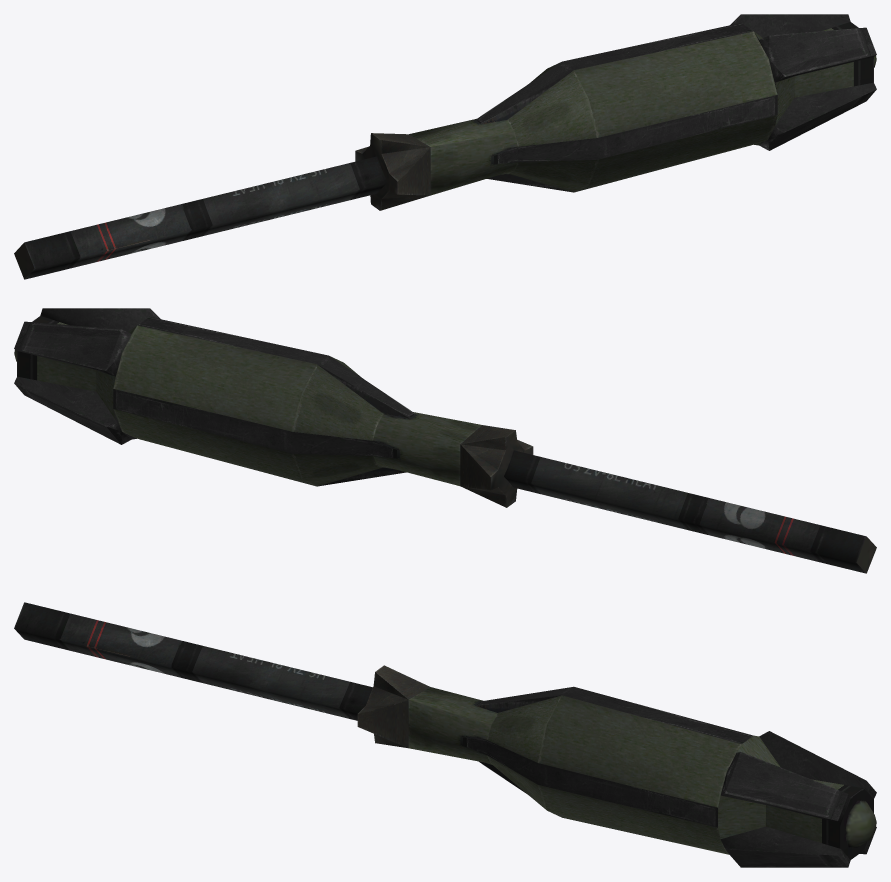
The model's file is t6_attach_mag_usrpg_world_LOD0.obj.
3 renders of one model, top to bottom at view 1: azimuth 30°, elevation 25°; view 2: azimuth 150°, elevation 25°; view 3: azimuth 330°, elevation 25°, orthographic.
Parts seen in each view (by area): view 1: mtl_t6_wpn_launch_usrpg, mtl_t6_wpn_launch_usrpg_camo3; view 2: mtl_t6_wpn_launch_usrpg, mtl_t6_wpn_launch_usrpg_camo3; view 3: mtl_t6_wpn_launch_usrpg, mtl_t6_wpn_launch_usrpg_camo3.
Part boxes in pixels (x1,y1,x2,y2): mtl_t6_wpn_launch_usrpg: (14,22,876,279); mtl_t6_wpn_launch_usrpg_camo3: (355,14,876,210); mtl_t6_wpn_launch_usrpg: (14,316,876,573); mtl_t6_wpn_launch_usrpg_camo3: (14,308,533,507); mtl_t6_wpn_launch_usrpg: (14,602,876,859); mtl_t6_wpn_launch_usrpg_camo3: (357,665,876,867).
Size of the model in its own units: 59.35 by 8.17 by 7.25.
